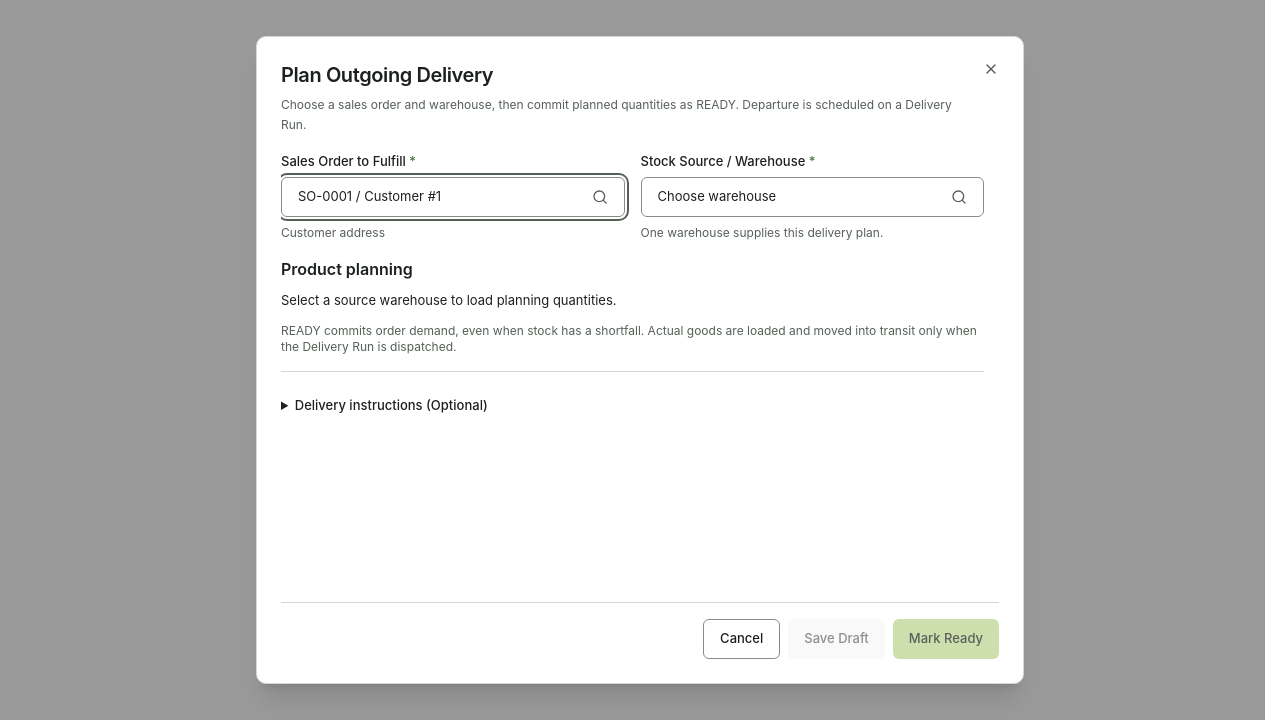
it: outgoing delivery warehouse planning › uses balanced responsive selectors, one warehouse, current persisted lines, and blank quantity inputs
Click the button with aria-label "Stock Source / Warehouse": [717, 196] box [640,177,984,217]
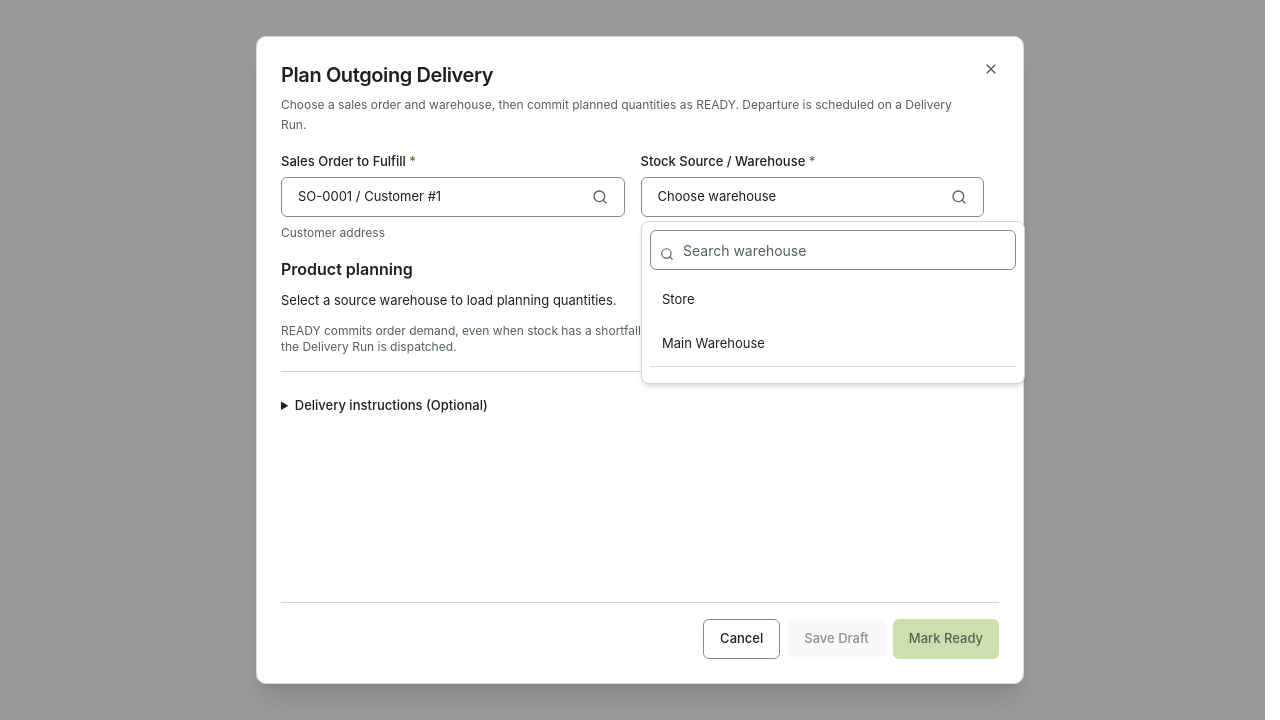
Click the menu item "Store": [678, 299] box [662,291,694,307]
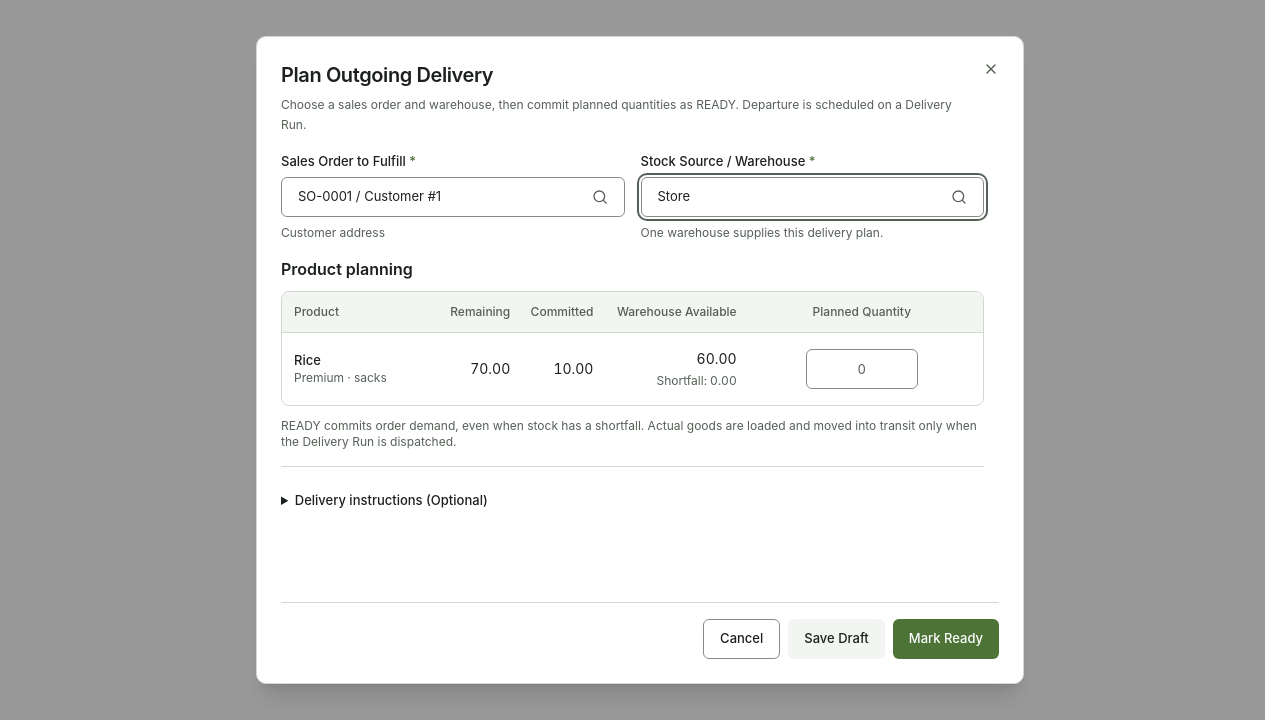
Expected: the field named "Quantity to ship for Rice" is enabled
Expected: the field named "Quantity to ship for Rice" is empty
Expected: the column heading "Warehouse Available" is shown, [602,292,745,332]
In the field named "Quantity to ship for Rice": [862, 368] box [806,348,918,388], type "21"
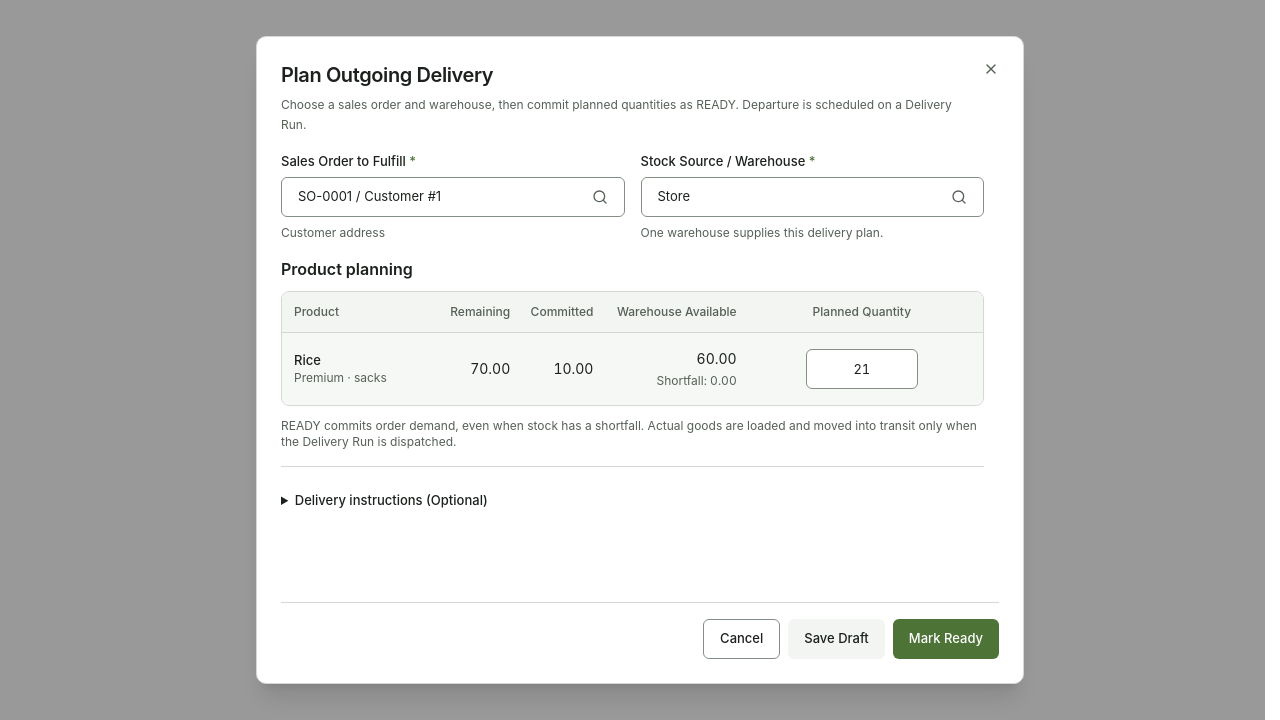
Click the button "Mark Ready": [946, 639] box [893,619,999,659]
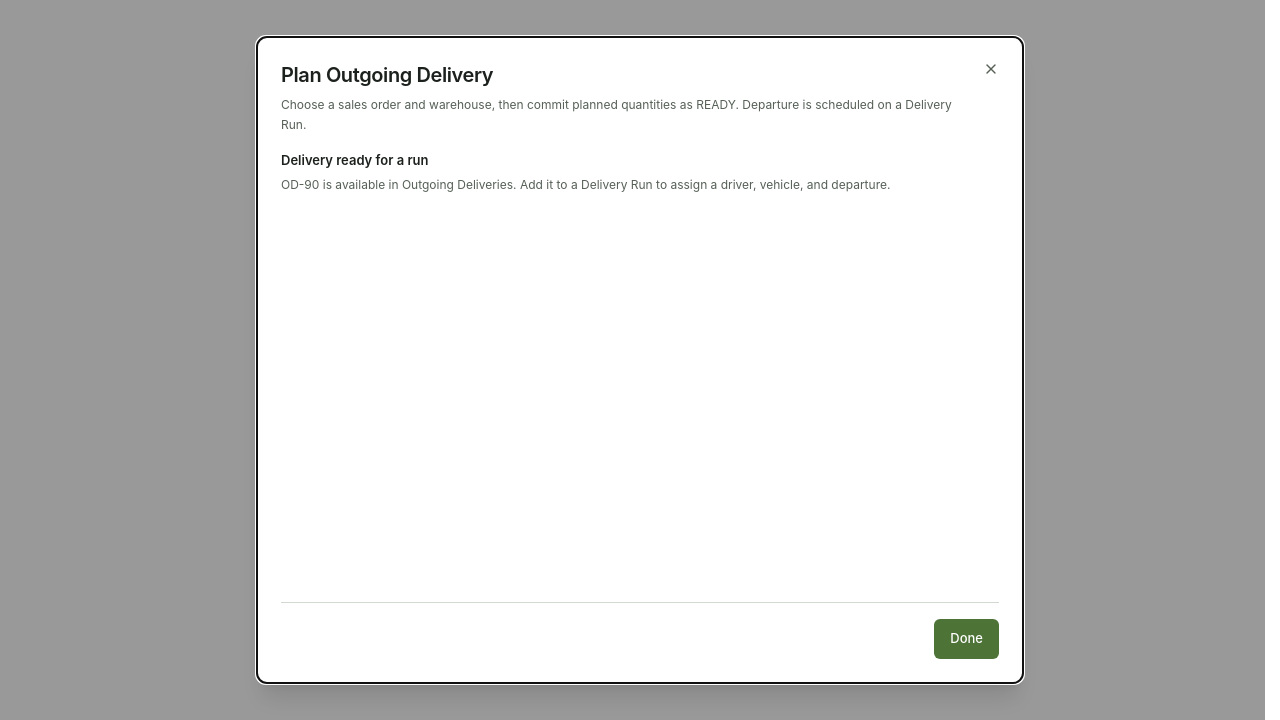
Expected: the text "Delivery ready for a run" is shown, [281,152,428,168]
